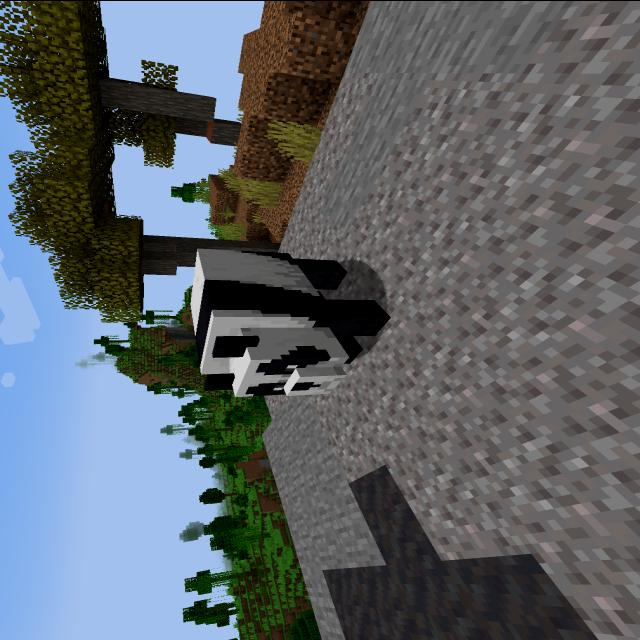Panda: (178, 236, 406, 400)
